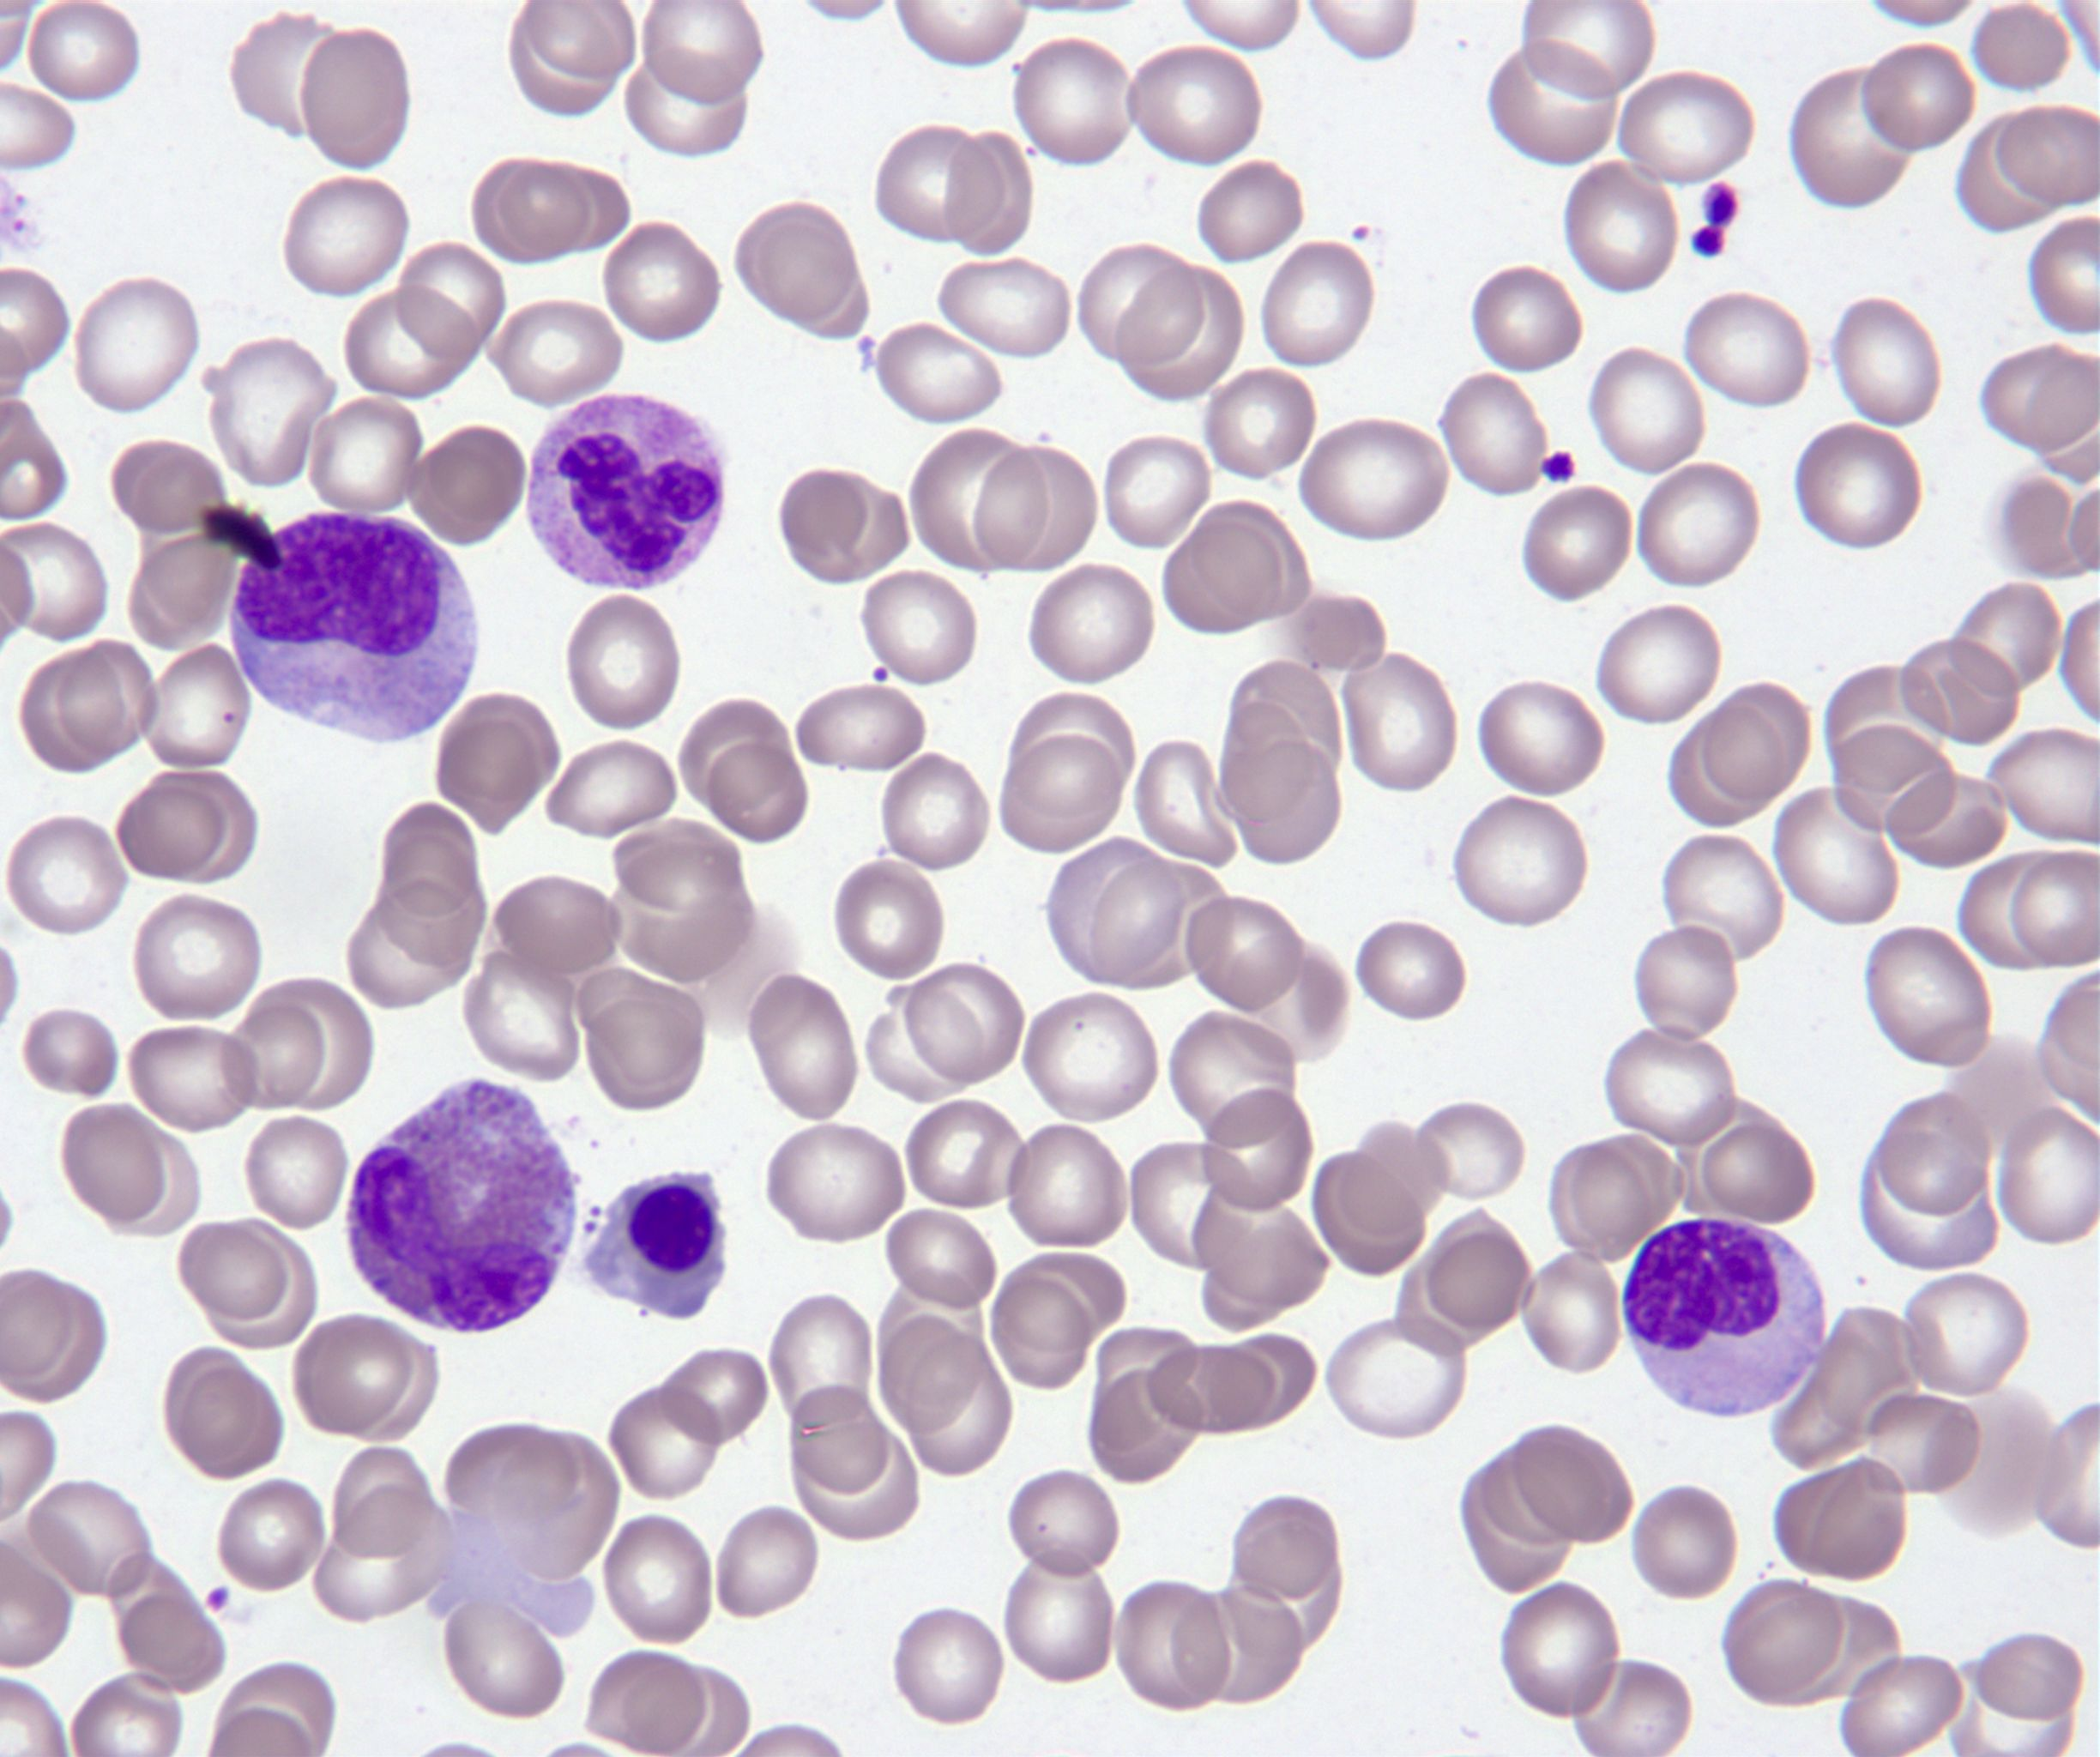24: (588, 1176, 726, 1319)
3: (232, 513, 480, 740)
4: (1624, 1220, 1824, 1417)
6: (525, 398, 724, 590)
E3: (351, 1080, 576, 1330)
